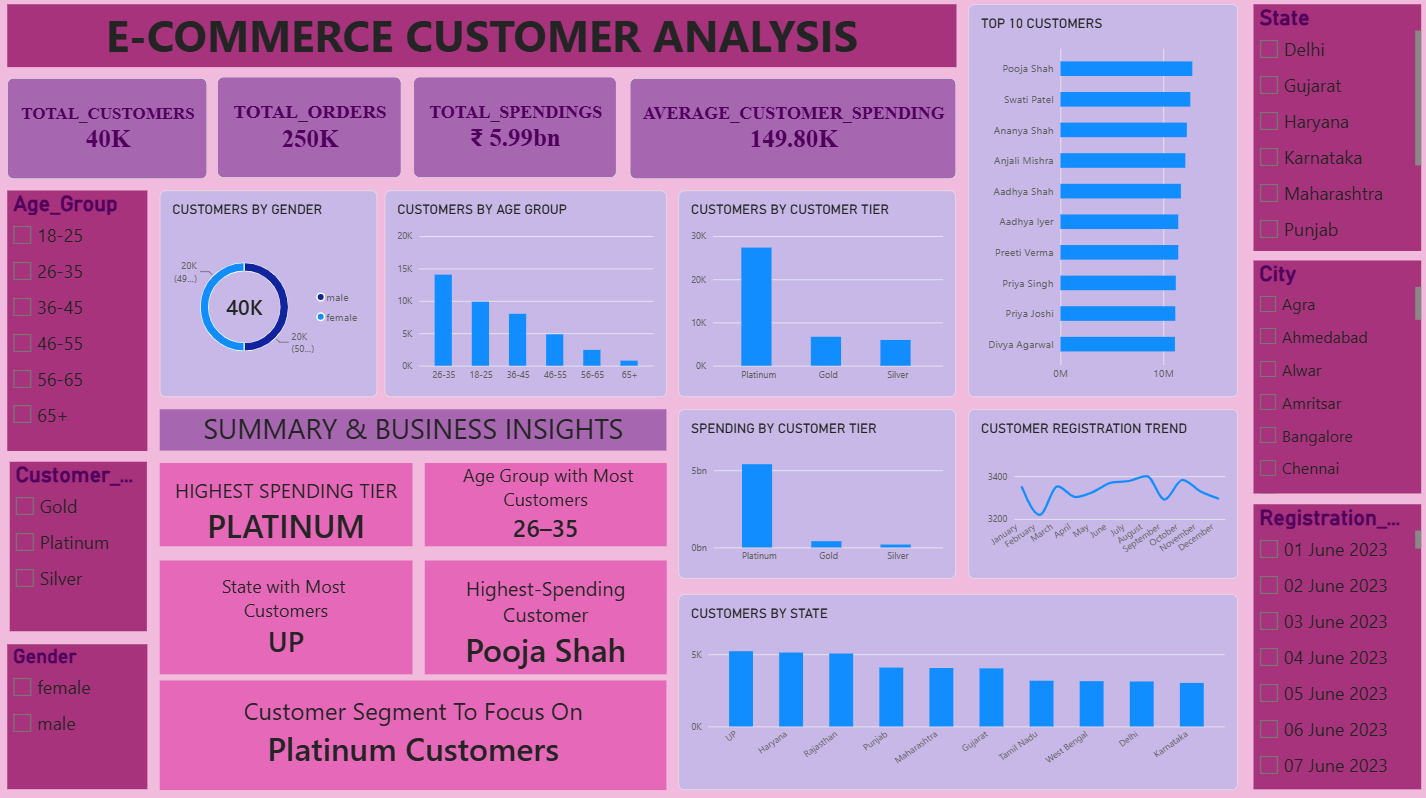

Layout of this report page (visuals, bound fields, positions):
{"tool":"powerbi","page":{"name":"CUSTOMER_ANALYSIS","canvas":[1920,1080],"ordinal":1},"visuals":[{"type":"textbox","box":[14.4,14.4,1267.9,84.4],"z":0},{"type":"cardVisual","fields":{"Data":["customers.TOTAL_CUSTOMERS"]},"box":[14.5,114,267.8,135.7],"z":1000},{"type":"cardVisual","fields":{"Data":["sales.TOTAL_ORDERS"]},"box":[295,112.2,246.1,135.7],"z":2000},{"type":"cardVisual","fields":{"Data":["sales.TOTAL_SPENDINGS"]},"box":[557.4,112.2,271.4,135.7],"z":3000},{"type":"cardVisual","fields":{"Data":["sales.AVERAGE_CUSTOMER_SPENDING"]},"box":[846,113.2,436.4,135.8],"z":4000},{"type":"donutChart","title":"CUSTOMERS BY GENDER","fields":{"Category":["customers.Gender"],"Y":["customers.TOTAL_CUSTOMERS"]},"box":[218.2,263.5,290.2,275.8],"z":5000},{"type":"clusteredColumnChart","title":"CUSTOMERS BY AGE GROUP","fields":{"Category":["customers.Age_Group"],"Y":["customers.TOTAL_CUSTOMERS"]},"box":[518.7,263.5,376.7,275.8],"z":6000},{"type":"columnChart","title":"CUSTOMERS BY CUSTOMER TIER","fields":{"Category":["customers.Customer_Tier"],"Y":["customers.TOTAL_CUSTOMERS"]},"box":[911.8,263.5,370.5,275.8],"z":7000},{"type":"clusteredColumnChart","title":"SPENDING BY CUSTOMER TIER","fields":{"Category":["customers.Customer_Tier"],"Y":["sales.TOTAL_SPENDINGS"]},"box":[911.8,555.7,370.5,226.4],"z":8000},{"type":"columnChart","title":"CUSTOMERS BY STATE","fields":{"Category":["customers.State"],"Y":["customers.TOTAL_CUSTOMERS"]},"box":[911.8,802.7,747.2,261.4],"z":9000},{"type":"barChart","title":"TOP 10 CUSTOMERS","fields":{"Category":["customers.Customer_Name"],"Y":["sales.TOTAL_SPENDINGS"]},"box":[1298.8,14.4,360.2,524.9],"z":10000},{"type":"lineChart","title":"CUSTOMER REGISTRATION TREND","fields":{"Category":["customers.Registration_Date.Variation.Date Hierarchy.Month"],"Y":["customers.TOTAL_CUSTOMERS"]},"box":[1298.8,555.7,360.2,226.4],"z":11000},{"type":"slicer","fields":{"Values":["customers.State"]},"box":[1679.6,14.4,224.4,329.3],"z":12000},{"type":"slicer","fields":{"Values":["customers.Gender"]},"box":[14.4,870.7,187.3,193.5],"z":13000},{"type":"slicer","fields":{"Values":["customers.Age_Group"]},"box":[14.4,263.5,187.3,347.9],"z":14000},{"type":"slicer","fields":{"Values":["customers.Customer_Tier"]},"box":[18.5,625.7,183.2,226.4],"z":15000},{"type":"textbox","box":[218.2,555.7,677.2,55.6],"z":16000},{"type":"textbox","box":[218.2,627.8,337.6,111.1],"z":17000},{"type":"textbox","box":[572.2,627.8,323.2,111.1],"z":18000},{"type":"textbox","box":[218.2,757.5,337.6,152.3],"z":19000},{"type":"textbox","box":[572.2,757.5,323.2,152.3],"z":20000},{"type":"textbox","box":[218.2,918,677.2,146.1],"z":21000},{"type":"slicer","fields":{"Values":["sales.City"]},"box":[1679.6,358.1,224.4,310.8],"z":22000},{"type":"slicer","fields":{"Values":["customers.Registration_Date"]},"box":[1679.6,683.4,224.4,380.8],"z":23000}]}

Visuals, with their boxes in screenshot pixels (x1, y1, x2, y2), scaled from the page's 1920x1080 canvas onto the 1426x798 screenshot:
textbox: [x1=11, y1=11, x2=952, y2=73]
cardVisual - customers.TOTAL_CUSTOMERS: [x1=11, y1=84, x2=210, y2=185]
cardVisual - sales.TOTAL_ORDERS: [x1=219, y1=83, x2=402, y2=183]
cardVisual - sales.TOTAL_SPENDINGS: [x1=414, y1=83, x2=616, y2=183]
cardVisual - sales.AVERAGE_CUSTOMER_SPENDING: [x1=628, y1=84, x2=952, y2=184]
"CUSTOMERS BY GENDER" donutChart: [x1=162, y1=195, x2=378, y2=398]
"CUSTOMERS BY AGE GROUP" clusteredColumnChart: [x1=385, y1=195, x2=665, y2=398]
"CUSTOMERS BY CUSTOMER TIER" columnChart: [x1=677, y1=195, x2=952, y2=398]
"SPENDING BY CUSTOMER TIER" clusteredColumnChart: [x1=677, y1=411, x2=952, y2=578]
"CUSTOMERS BY STATE" columnChart: [x1=677, y1=593, x2=1232, y2=786]
"TOP 10 CUSTOMERS" barChart: [x1=965, y1=11, x2=1232, y2=398]
"CUSTOMER REGISTRATION TREND" lineChart: [x1=965, y1=411, x2=1232, y2=578]
slicer - customers.State: [x1=1247, y1=11, x2=1414, y2=254]
slicer - customers.Gender: [x1=11, y1=643, x2=150, y2=786]
slicer - customers.Age_Group: [x1=11, y1=195, x2=150, y2=452]
slicer - customers.Customer_Tier: [x1=14, y1=462, x2=150, y2=630]
textbox: [x1=162, y1=411, x2=665, y2=452]
textbox: [x1=162, y1=464, x2=413, y2=546]
textbox: [x1=425, y1=464, x2=665, y2=546]
textbox: [x1=162, y1=560, x2=413, y2=672]
textbox: [x1=425, y1=560, x2=665, y2=672]
textbox: [x1=162, y1=678, x2=665, y2=786]
slicer - sales.City: [x1=1247, y1=265, x2=1414, y2=494]
slicer - customers.Registration_Date: [x1=1247, y1=505, x2=1414, y2=786]
